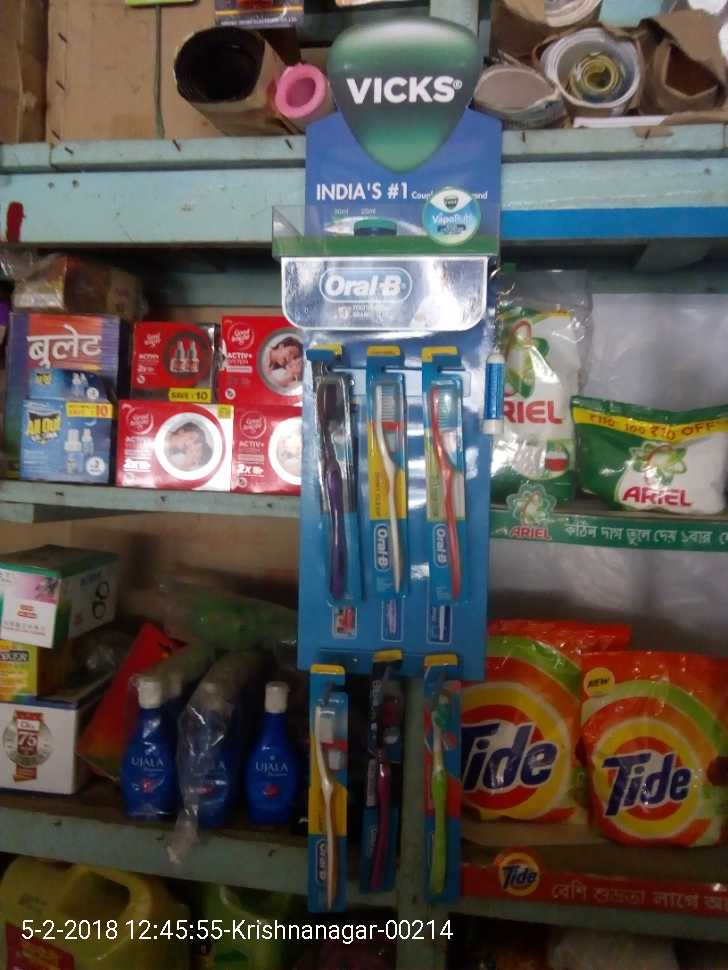home: (458, 622, 638, 829), (568, 639, 728, 845), (564, 394, 721, 516)
pharmacy: (361, 360, 418, 607), (306, 365, 364, 605), (414, 683, 467, 901), (296, 683, 346, 907), (428, 376, 475, 600), (353, 680, 399, 896)
